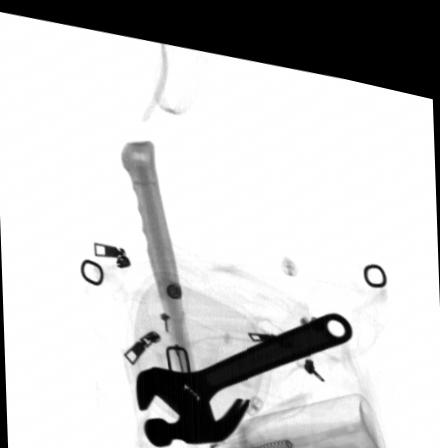Hammer: (118, 133, 251, 439)
Wrench: (137, 295, 354, 437)
